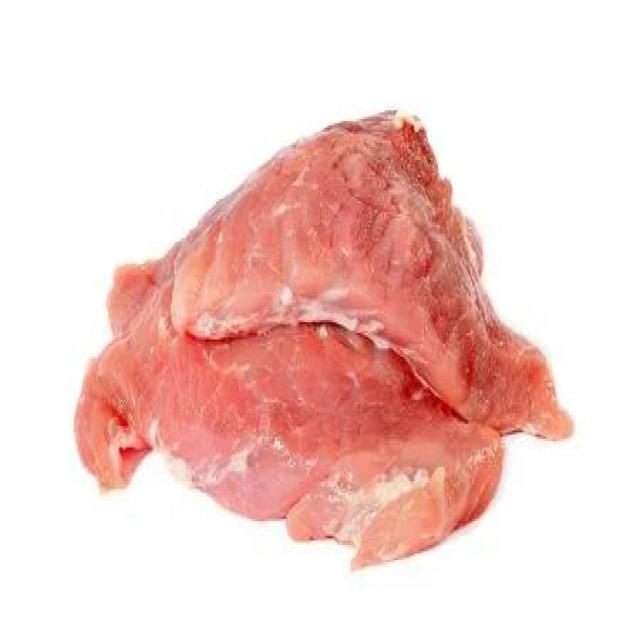Pork: (174, 107, 577, 440)
